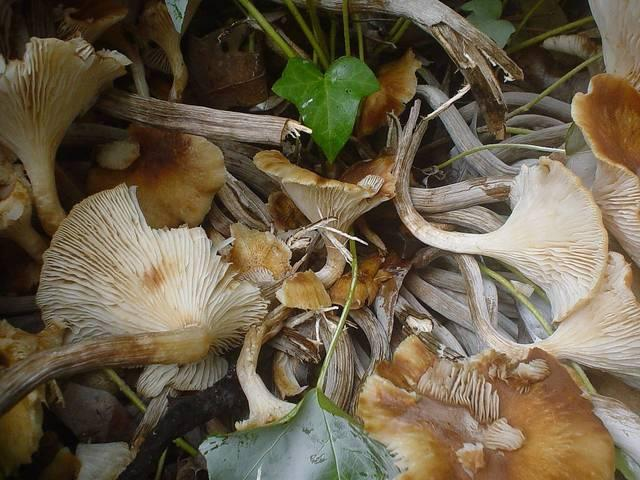edible_mushroom: (398, 111, 640, 477), (0, 181, 270, 448), (0, 20, 124, 198)
